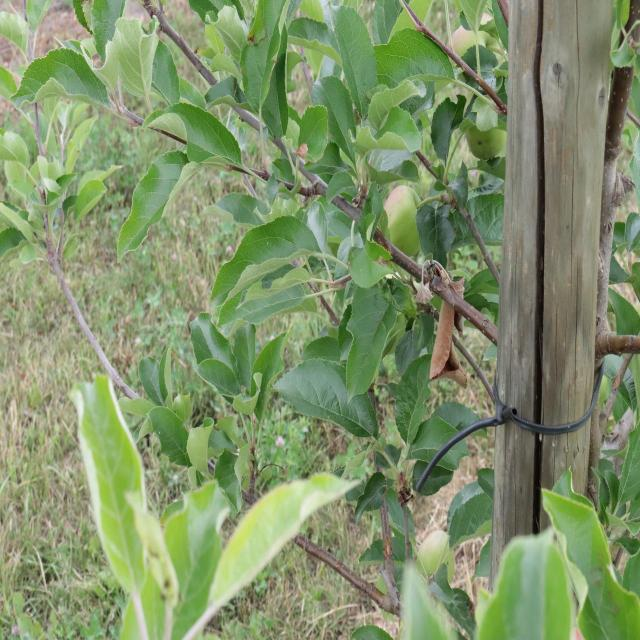-FireBlight-: (414, 255, 478, 389)
